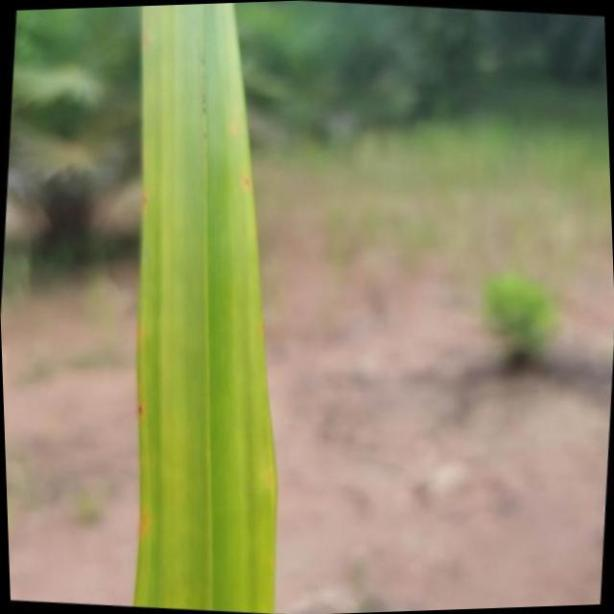nitrogen: (130, 0, 274, 614)
